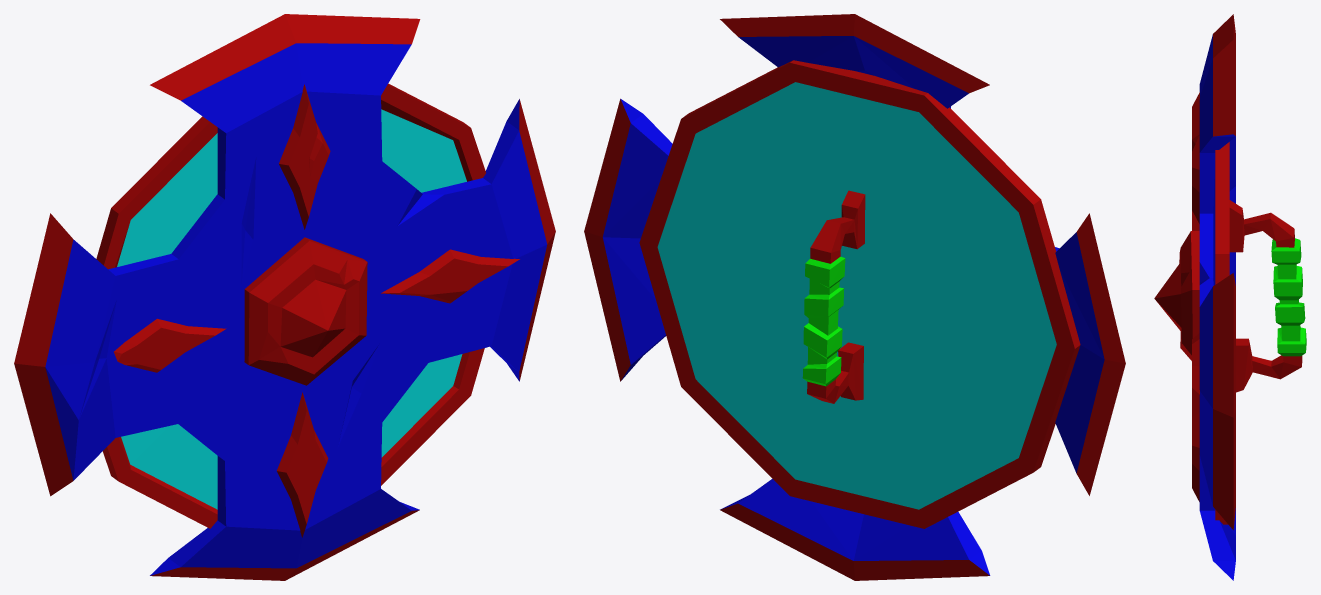
File: Shield_Uncommon_BladedTarge.fbx
The picture shows the model from 3 angles, left to right: view 1: azimuth 30°, elevation 25°; view 2: azimuth 150°, elevation 25°; view 3: azimuth 270°, elevation 25°; orthographic projection. The views are drawn at different scales.
Visible parts, largest first — view 1: SM_Wep_Shield_08; view 2: SM_Wep_Shield_08; view 3: SM_Wep_Shield_08.
Boxes of the visible parts, x1,y1,x2,y2 form: SM_Wep_Shield_08: (14, 14, 555, 580); SM_Wep_Shield_08: (584, 14, 1125, 580); SM_Wep_Shield_08: (1154, 14, 1306, 580).
Size of the model in its own units: 76.25 by 76.25 by 20.43.
